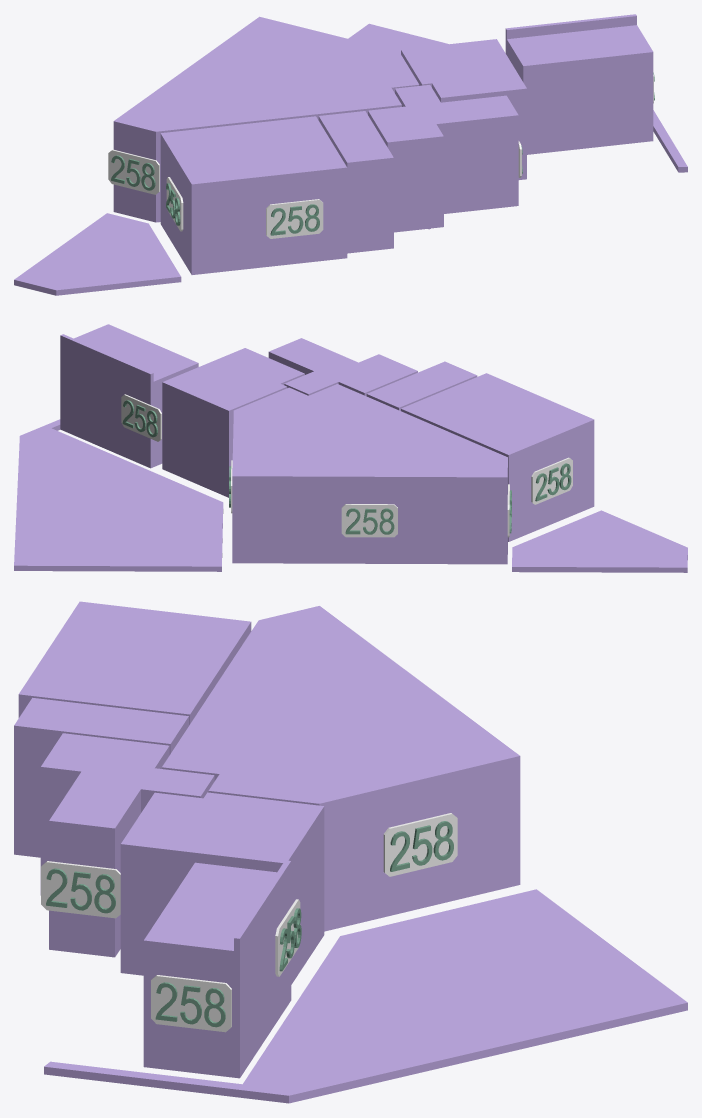
3 renders of one model, top to bottom at view 1: azimuth 30°, elevation 25°; view 2: azimuth 150°, elevation 25°; view 3: azimuth 270°, elevation 25°, orthographic. The views are drawn at different scales.
Parts seen in each view (by area): view 1: g_1, g_0, g_5, g_3, g_6, g_2, g_4, g_7, g_11, g_39; view 2: g_0, g_7, g_1, g_5, g_4, g_6, g_3, g_2, g_27, g_15, g_35; view 3: g_0, g_7, g_5, g_4, g_1, g_3, g_2, g_23, g_19, g_31.
Boxes of the visible parts, bbox=[...] form: g_1: bbox=[160, 116, 347, 274]; g_0: bbox=[113, 16, 419, 222]; g_5: bbox=[505, 14, 653, 154]; g_3: bbox=[368, 85, 518, 232]; g_6: bbox=[14, 213, 181, 295]; g_2: bbox=[318, 111, 393, 253]; g_4: bbox=[401, 39, 526, 179]; g_7: bbox=[348, 23, 687, 172]; g_11: bbox=[266, 199, 323, 238]; g_39: bbox=[108, 149, 159, 194]; g_0: bbox=[232, 384, 507, 564]; g_7: bbox=[14, 419, 223, 571]; g_1: bbox=[401, 373, 594, 541]; g_5: bbox=[60, 324, 198, 468]; g_4: bbox=[162, 348, 304, 497]; g_6: bbox=[512, 510, 687, 572]; g_3: bbox=[268, 338, 417, 396]; g_2: bbox=[366, 361, 477, 410]; g_27: bbox=[341, 504, 397, 537]; g_15: bbox=[531, 457, 572, 504]; g_35: bbox=[121, 394, 161, 441]; g_0: bbox=[162, 606, 520, 931]; g_7: bbox=[44, 889, 687, 1103]; g_5: bbox=[143, 860, 291, 1078]; g_4: bbox=[120, 792, 324, 984]; g_1: bbox=[18, 601, 251, 725]; g_3: bbox=[40, 733, 214, 957]; g_2: bbox=[14, 697, 188, 857]; g_23: bbox=[151, 975, 231, 1032]; g_19: bbox=[41, 861, 120, 918]; g_31: bbox=[383, 813, 457, 876].
Size of the model in its own units: 19.07 by 2.85 by 11.81.
